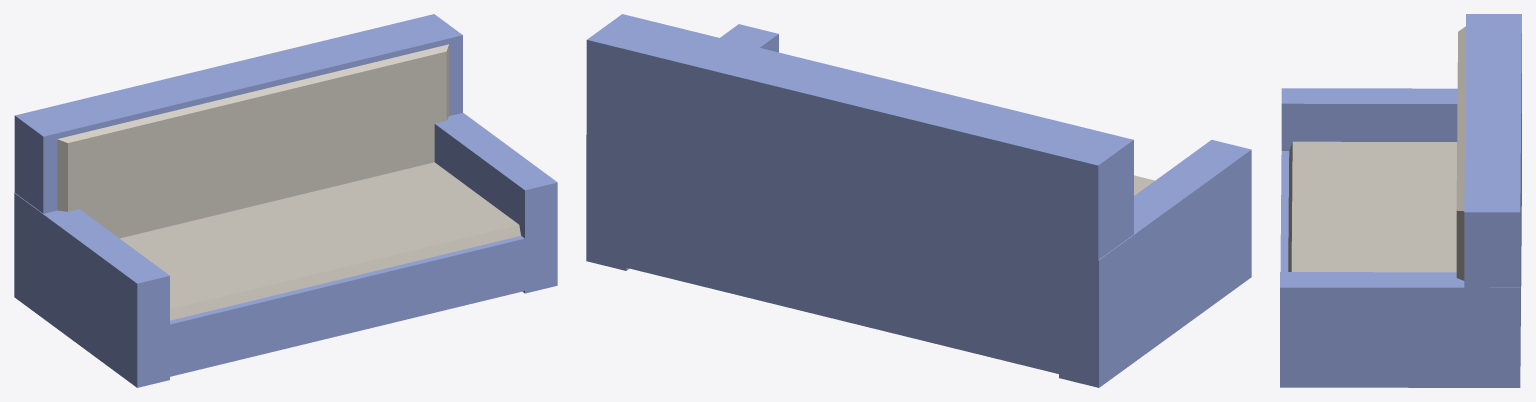
File: Lounge.fbx
3 views of the same model, side by side, from view 1: azimuth 30°, elevation 25°; view 2: azimuth 150°, elevation 25°; view 3: azimuth 270°, elevation 25° (orthographic). The views are drawn at different scales.
Visible parts, largest first — view 1: Lounge; view 2: Lounge; view 3: Lounge.
Part boxes in pixels (x1=…): Lounge: x1=14, y1=14, x2=557, y2=387; Lounge: x1=586, y1=14, x2=1251, y2=387; Lounge: x1=1280, y1=14, x2=1521, y2=387.
Bounding box in the file's own units: 156 × 64.38 × 80.21.
